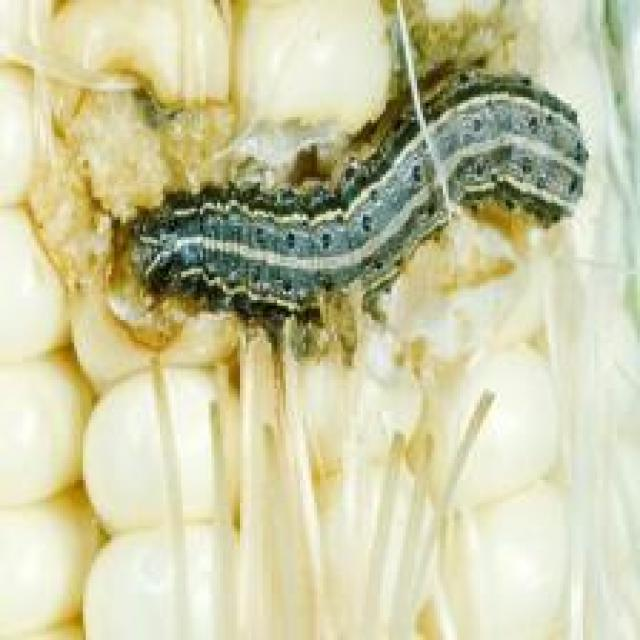Plaga: (114, 54, 597, 334)
